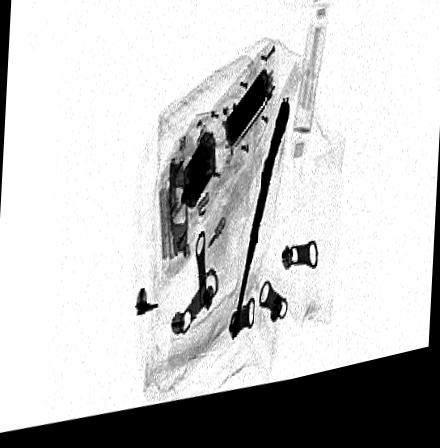Gun: (230, 108, 290, 341)
